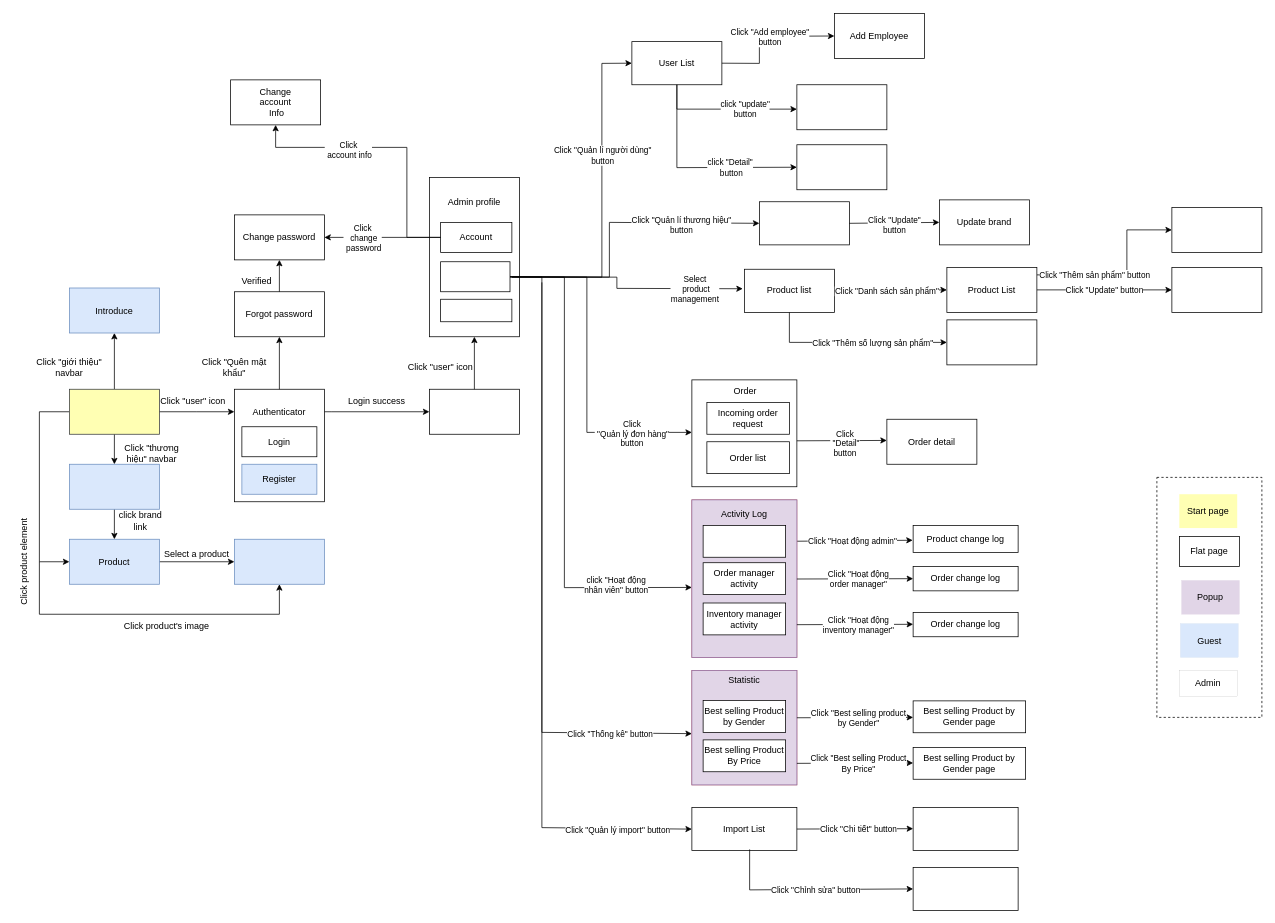
Some shapes in this 1275 by 923 pixel diagram are drawn without their labels. Here are the shapes that lost their labels. From the top down, the centre of each, then its label:
At pixel 841 107: "Update user".
At pixel 841 167: "View user detail".
At pixel 804 223: "Brand List".
At pixel 1216 229: "Add Selling Product".
At pixel 475 276: "Management".
At pixel 1216 289: "Update Product".
At pixel 476 310: "Logout".
At pixel 991 342: "Update product's quantity".
At pixel 114 411: "Home Page".
At pixel 474 411: "Post Login".
At pixel 114 486: "Brand".
At pixel 279 561: "Product Detail".
At pixel 744 541: "Admin activity".
At pixel 965 828: "Import Detail".
At pixel 965 888: "Update import".
